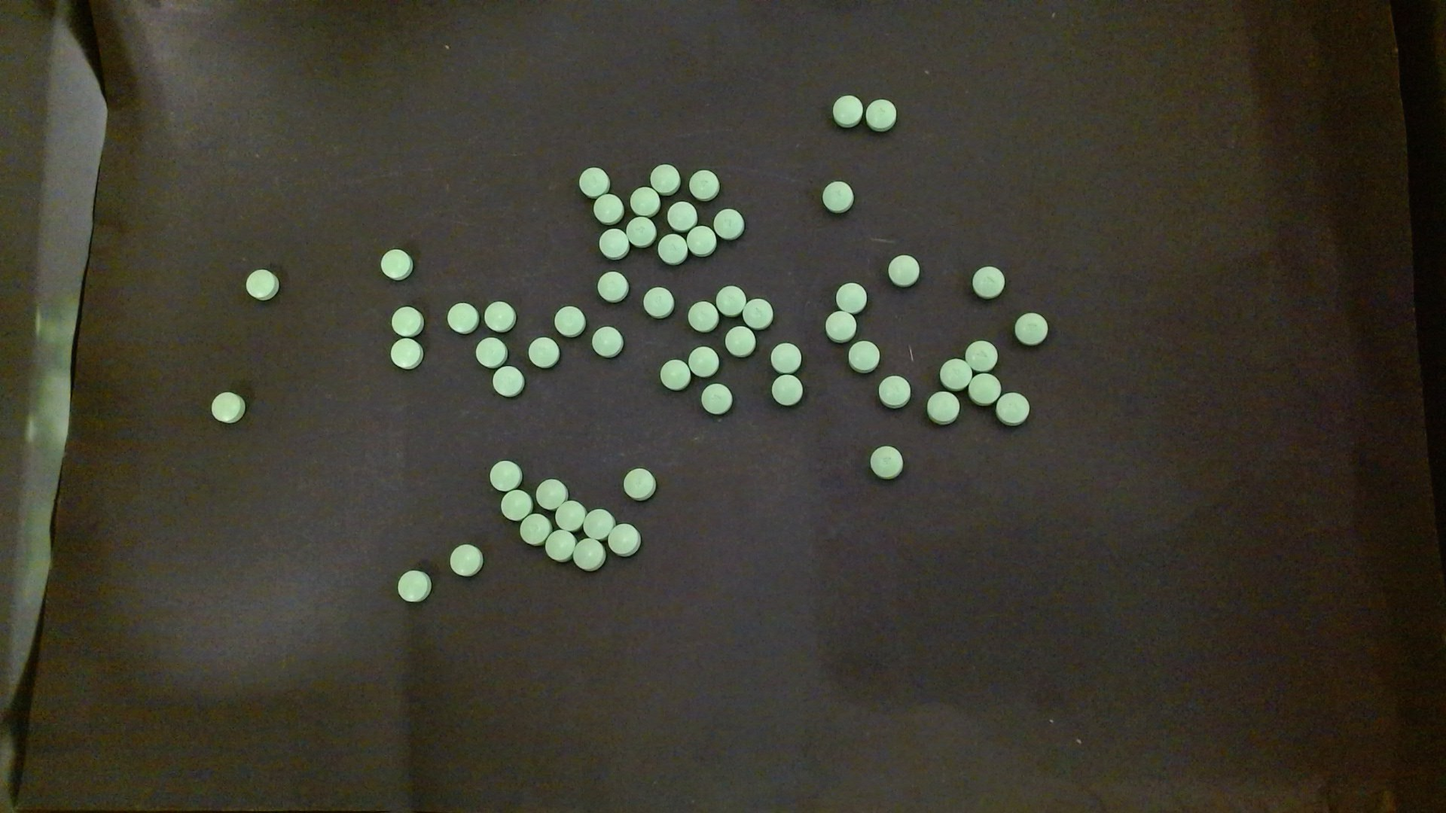Circle: (868, 443, 905, 481), (245, 267, 282, 303), (209, 391, 246, 425), (397, 568, 432, 603), (572, 537, 606, 571), (995, 391, 1029, 425), (926, 391, 959, 425), (878, 375, 911, 408), (1014, 312, 1047, 345), (608, 523, 640, 557), (450, 544, 483, 576), (623, 467, 655, 500), (972, 265, 1005, 297), (940, 358, 972, 391), (391, 305, 423, 337), (771, 374, 803, 406), (500, 489, 532, 521), (968, 373, 1000, 405), (847, 340, 879, 372), (489, 459, 520, 492), (888, 254, 919, 287), (831, 94, 862, 126), (390, 338, 422, 369), (535, 479, 567, 510), (380, 248, 412, 279), (835, 282, 867, 313), (520, 513, 551, 545), (475, 336, 506, 368), (712, 208, 744, 239), (965, 340, 997, 371), (484, 301, 515, 332), (688, 169, 719, 200), (701, 383, 732, 414), (583, 508, 614, 539), (578, 166, 609, 197), (822, 181, 853, 212), (596, 271, 627, 302), (825, 311, 856, 342), (545, 530, 575, 562), (650, 163, 680, 195), (660, 359, 690, 391), (643, 286, 673, 318), (555, 500, 585, 532), (865, 99, 895, 131), (657, 233, 687, 265), (743, 298, 773, 330), (493, 366, 523, 397), (447, 302, 477, 333), (554, 305, 584, 336), (529, 336, 559, 367), (593, 193, 623, 224), (592, 326, 622, 357), (598, 228, 628, 259), (667, 200, 697, 231), (725, 325, 755, 356), (688, 301, 718, 331), (715, 285, 745, 315), (771, 343, 801, 373), (688, 346, 718, 376), (686, 225, 715, 256), (626, 216, 655, 247), (630, 187, 659, 215)
